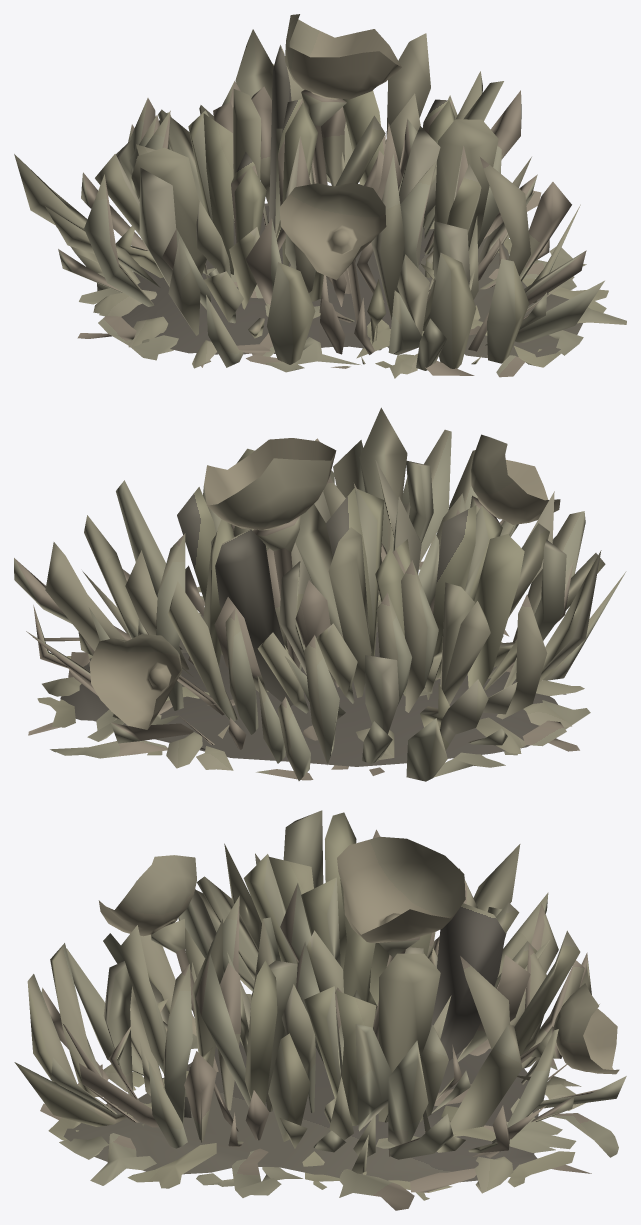
File: ph_succulent_1.glb
3 renders of one model, top to bottom at view 1: azimuth 30°, elevation 25°; view 2: azimuth 150°, elevation 25°; view 3: azimuth 270°, elevation 25°, orthographic. The views are drawn at different scales.
Parts seen in each view (by area): view 1: ph_succulent_1_lod1; view 2: ph_succulent_1_lod1; view 3: ph_succulent_1_lod1.
Part boxes in pixels (x1,y1,x2,y2): ph_succulent_1_lod1: [14, 14, 626, 378]; ph_succulent_1_lod1: [14, 407, 626, 781]; ph_succulent_1_lod1: [14, 810, 626, 1210].
Size of the model in its own units: 0.488 by 0.2308 by 0.5017.
Materials: 2 (2 with a texture image).
